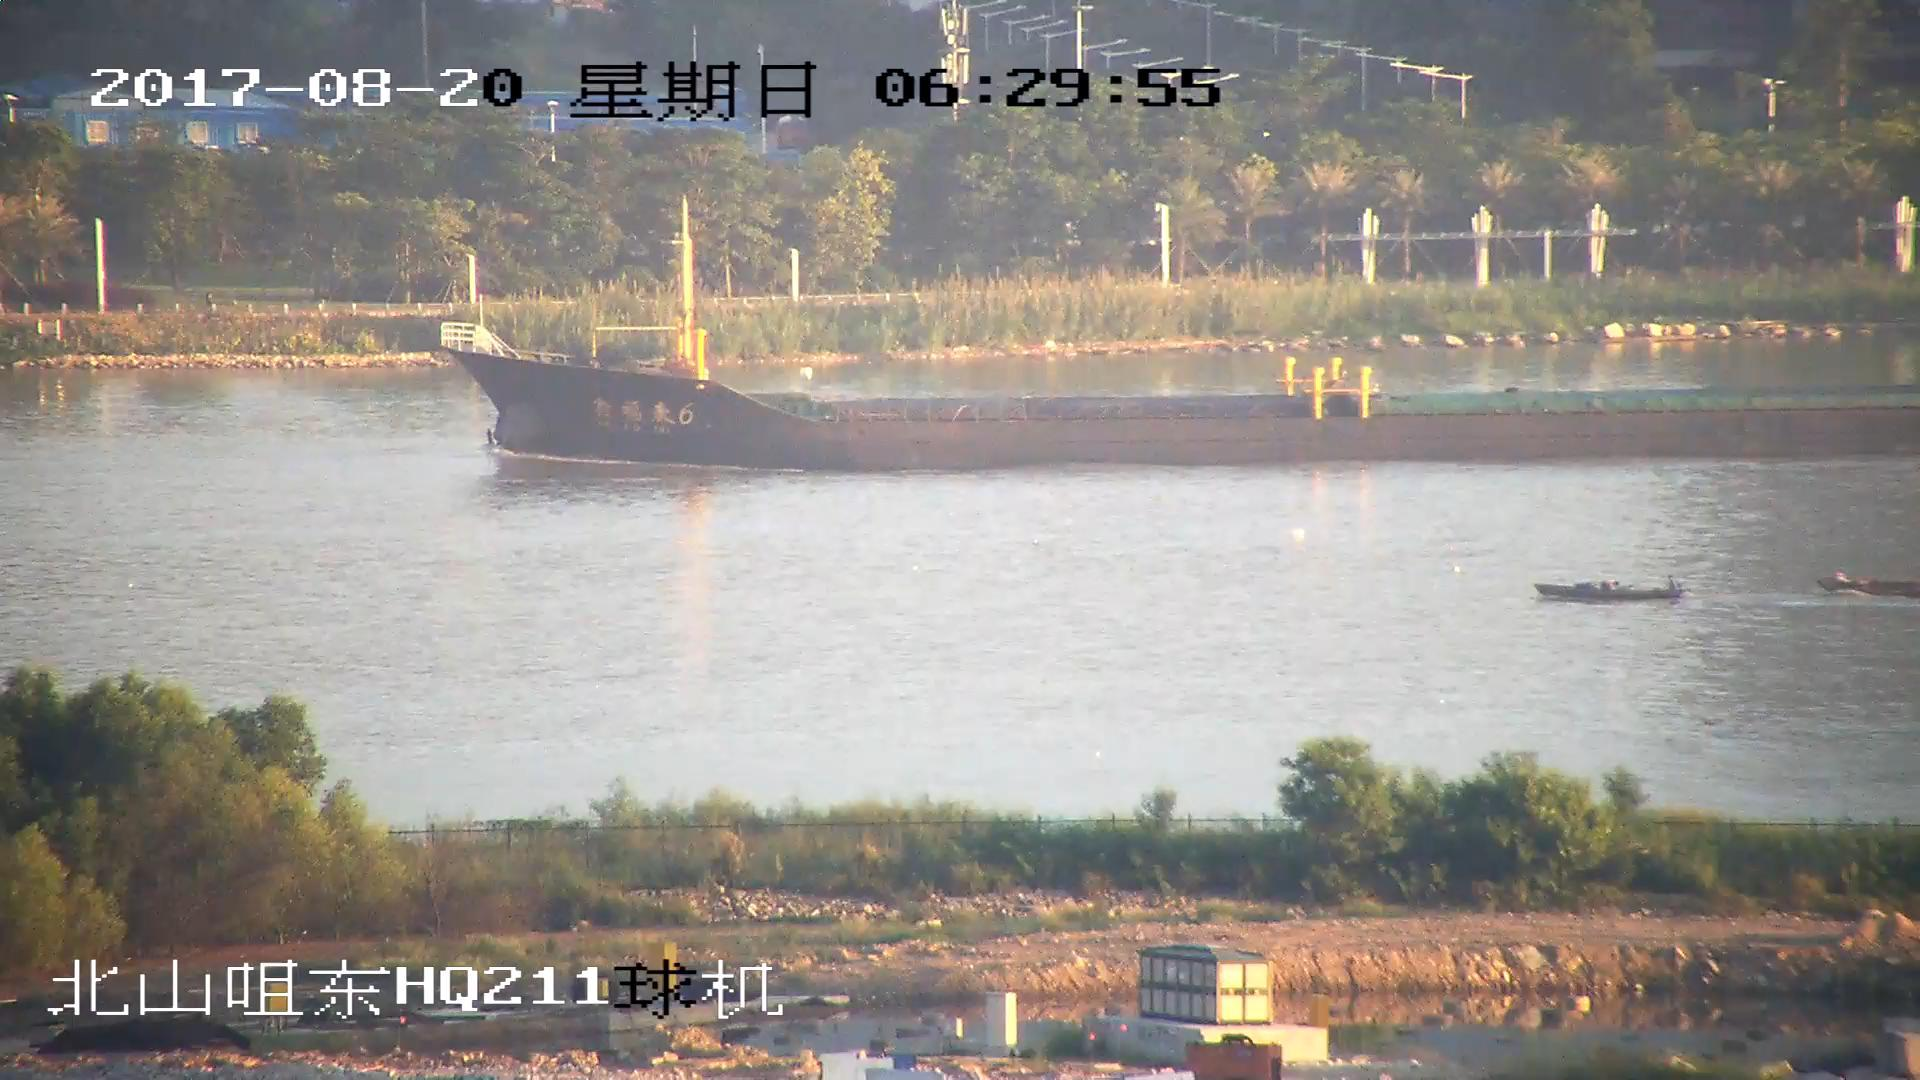Ship: (440, 233, 1920, 471), (1540, 578, 1683, 607), (1826, 563, 1920, 603)
